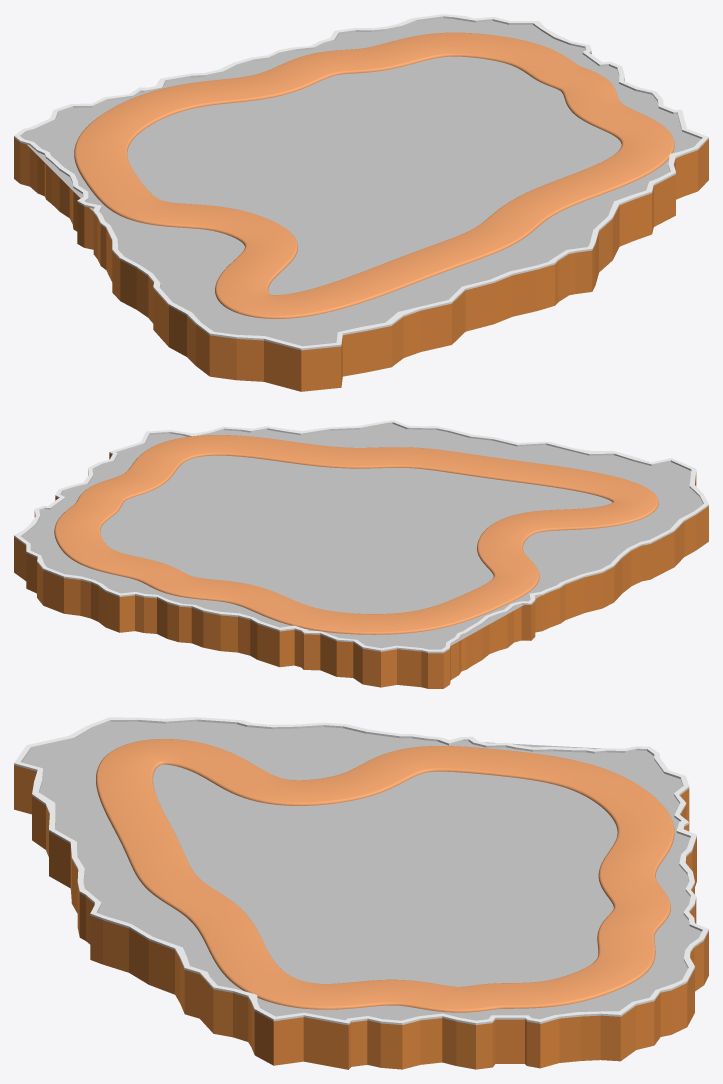
File: Island_1.fbx
3 renders of one model, top to bottom at view 1: azimuth 30°, elevation 25°; view 2: azimuth 150°, elevation 25°; view 3: azimuth 270°, elevation 25°, orthographic. The views are drawn at different scales.
Visible parts, largest first — view 1: Island_1; view 2: Island_1; view 3: Island_1.
Boxes of the visible parts, bbox=[...] form: Island_1: bbox=[14, 14, 708, 391]; Island_1: bbox=[14, 420, 708, 688]; Island_1: bbox=[14, 717, 708, 1069].
Size of the model in its own units: 118 by 8.46 by 114.
